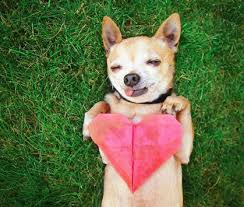chihuahua: (84, 14, 194, 114)
